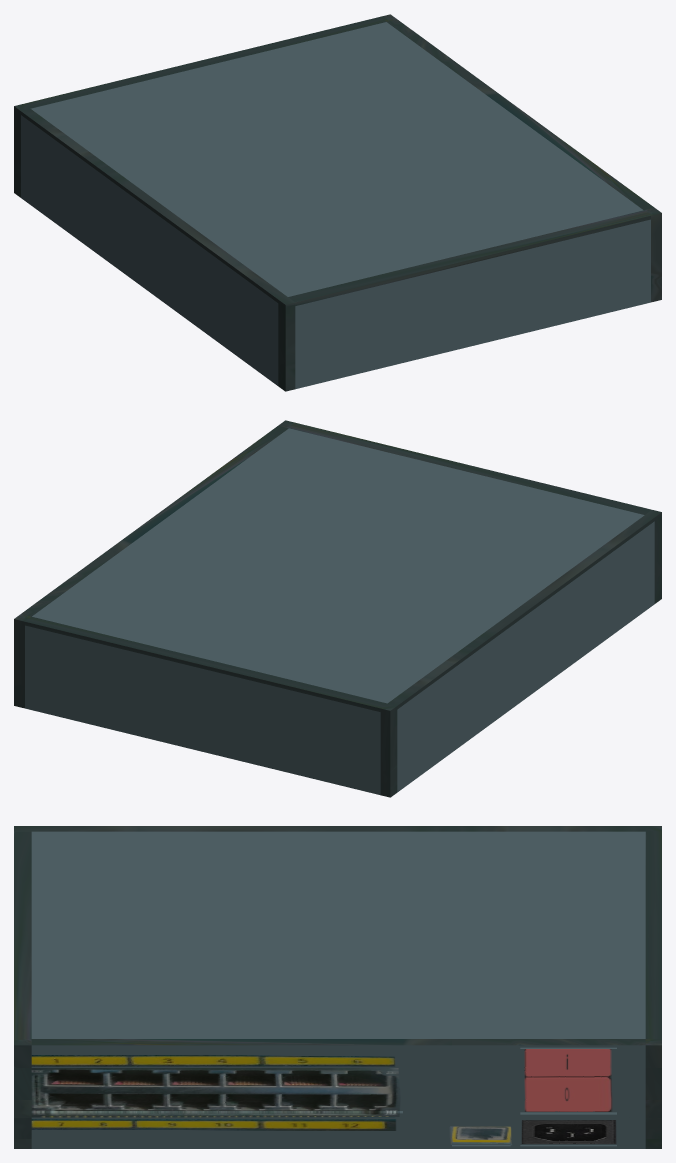
Rendered from Swithc.fbx.
3 renders of one model, top to bottom at view 1: azimuth 30°, elevation 25°; view 2: azimuth 150°, elevation 25°; view 3: azimuth 270°, elevation 25°, orthographic. The views are drawn at different scales.
Parts seen in each view (by area): view 1: Cube; view 2: Cube; view 3: Cube.
Boxes of the visible parts, left/top/right/bottom form: Cube: left=14, top=14, right=661, bottom=391; Cube: left=14, top=420, right=661, bottom=797; Cube: left=14, top=826, right=661, bottom=1148.
Size of the model in its own units: 399 by 87.46 by 496.
